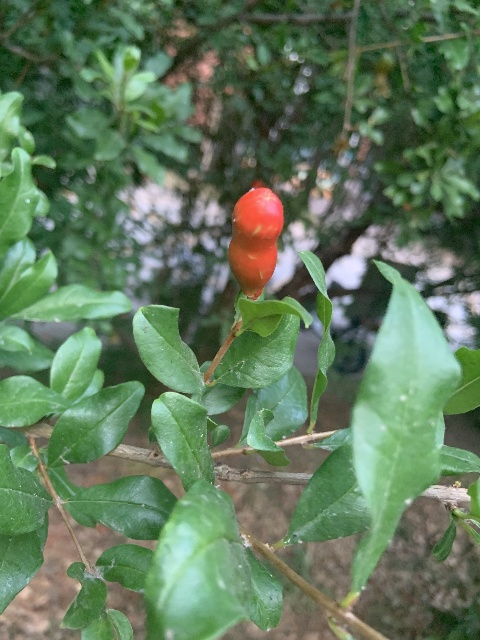bud: (228, 185, 283, 299)
